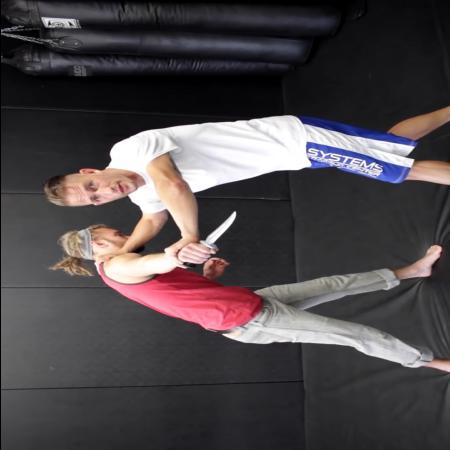long weapon: (181, 209, 243, 270)
